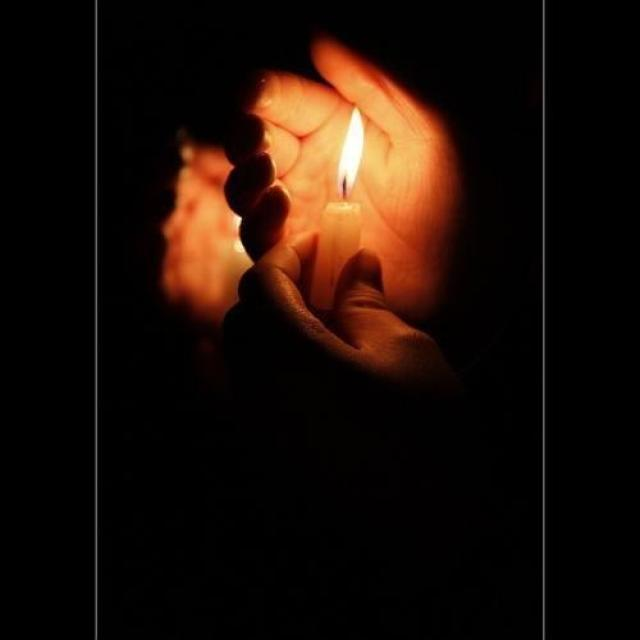Fire: (333, 105, 365, 197)
